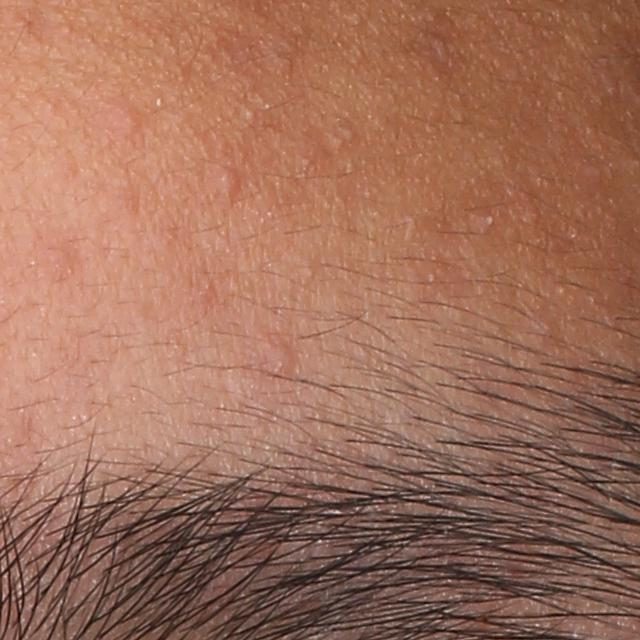comedo: (251, 329, 301, 383), (338, 123, 361, 142), (243, 106, 259, 125)
